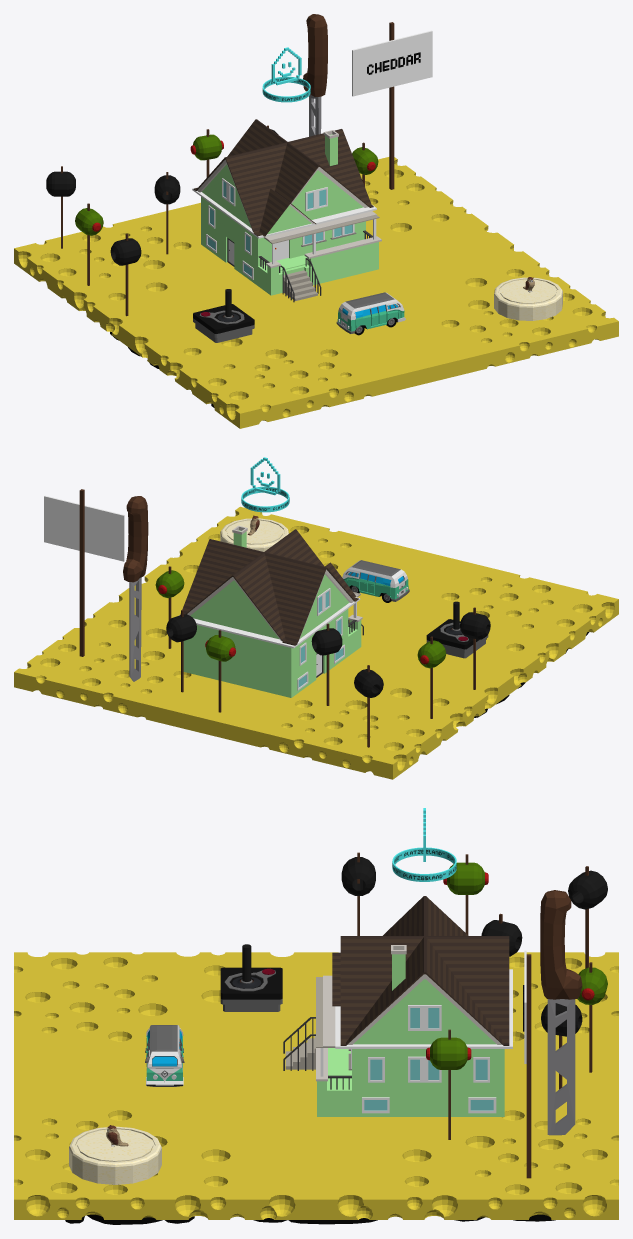
3 renders of one model, top to bottom at view 1: azimuth 30°, elevation 25°; view 2: azimuth 150°, elevation 25°; view 3: azimuth 270°, elevation 25°, orthographic. The views are drawn at different scales.
Parts seen in each view (by area): view 1: Cube.022, Cube.274, Cube.023, Cylinder.016, Cube.024, VEHICLES_VAN, OBJRANDOM_JOYSTICK, TYPE_PREMIUM, Sphere.017, Sphere.016, Sphere.020, Sphere.018 (+2 smaller); view 2: Cube.022, Cube.274, Cube.023, Cube.024, VEHICLES_VAN, Cylinder.016, OBJRANDOM_JOYSTICK, TYPE_PREMIUM, Sphere.020, Sphere.022, Sphere.017, Sphere.021 (+3 smaller); view 3: Cube.022, Cube.274, Cube.024, Cylinder.016, OBJRANDOM_JOYSTICK, VEHICLES_VAN, Cube.023, Sphere.019, Sphere.016, Sphere.018, TYPE_PREMIUM, Sphere.017 (+4 smaller).
Boxes of the visible parts, bbox=[...] form: Cube.022: bbox=[14, 157, 618, 428]; Cube.274: bbox=[192, 119, 381, 302]; Cube.023: bbox=[352, 22, 432, 189]; Cylinder.016: bbox=[494, 277, 562, 320]; Cube.024: bbox=[303, 14, 327, 136]; VEHICLES_VAN: bbox=[336, 292, 405, 335]; OBJRANDOM_JOYSTICK: bbox=[193, 289, 254, 342]; TYPE_PREMIUM: bbox=[262, 47, 310, 102]; Sphere.017: bbox=[110, 233, 141, 316]; Sphere.016: bbox=[46, 166, 75, 248]; Sphere.020: bbox=[154, 172, 180, 254]; Sphere.018: bbox=[75, 203, 103, 285]; Cube.022: bbox=[14, 506, 618, 779]; Cube.274: bbox=[179, 525, 363, 697]; Cube.023: bbox=[44, 489, 124, 656]; Cube.024: bbox=[123, 496, 148, 681]; VEHICLES_VAN: bbox=[342, 560, 409, 602]; Cylinder.016: bbox=[220, 518, 288, 551]; OBJRANDOM_JOYSTICK: bbox=[426, 601, 488, 658]; TYPE_PREMIUM: bbox=[241, 457, 289, 512]; Sphere.020: bbox=[311, 623, 342, 705]; Sphere.022: bbox=[205, 630, 235, 712]; Sphere.017: bbox=[460, 607, 490, 689]; Sphere.021: bbox=[166, 610, 196, 692]; Cube.022: bbox=[14, 952, 618, 1219]; Cube.274: bbox=[283, 896, 512, 1116]; Cube.024: bbox=[540, 890, 582, 1135]; Cylinder.016: bbox=[69, 1126, 161, 1184]; OBJRANDOM_JOYSTICK: bbox=[220, 944, 282, 1011]; VEHICLES_VAN: bbox=[145, 1025, 184, 1086]; Cube.023: bbox=[523, 950, 531, 1178]; Sphere.019: bbox=[426, 1029, 471, 1139]; Sphere.016: bbox=[568, 866, 607, 968]; Sphere.018: bbox=[443, 854, 488, 934]; TYPE_PREMIUM: bbox=[392, 808, 456, 881]; Sphere.017: bbox=[341, 852, 375, 935].
Bounding box in the file's own units: 3917 × 2197 × 4000.
44 materials, 4 textured.
